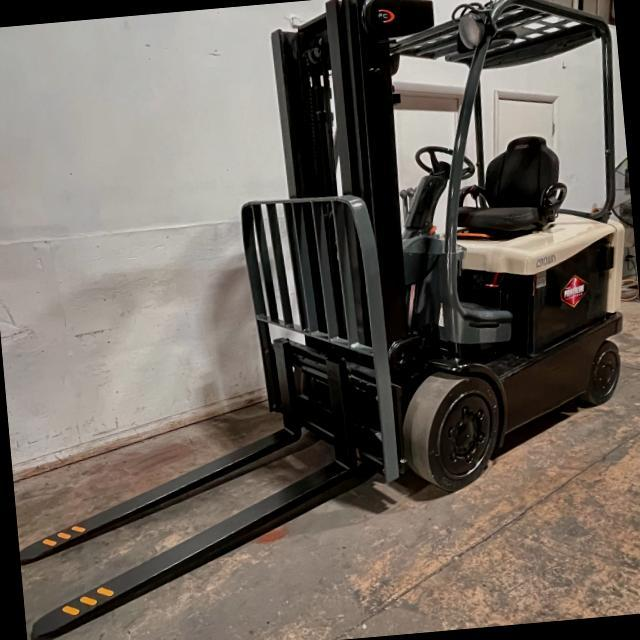forklift: (180, 0, 640, 520)
